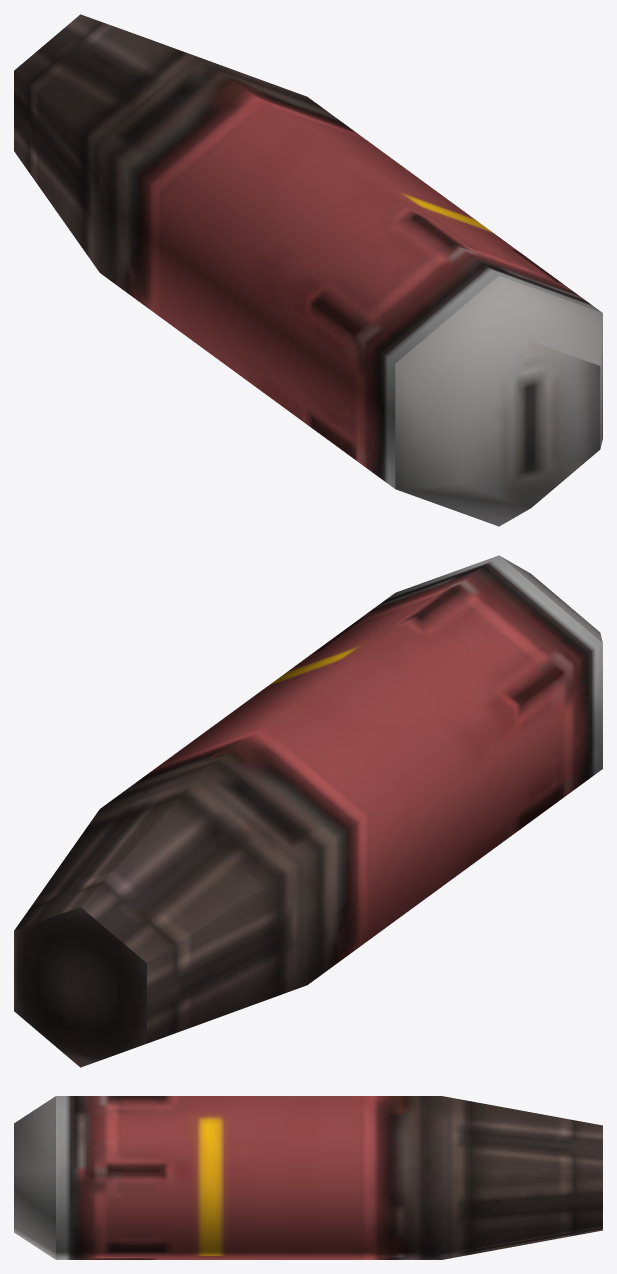
File: Hgn_Missile_Fusion_02.glb
3 views of the same model, one above another, from view 1: azimuth 30°, elevation 25°; view 2: azimuth 150°, elevation 25°; view 3: azimuth 270°, elevation 25° (orthographic). The views are drawn at different scales.
Parts seen in each view (by area): view 1: Group; view 2: Group; view 3: Group.
Part boxes in pixels (x1=…): Group: x1=14, y1=14, x2=602, y2=526; Group: x1=14, y1=555, x2=602, y2=1067; Group: x1=14, y1=1096, x2=602, y2=1259.
Bounding box in the file's own units: 0.0582 × 0.0672 × 0.2189.
Materials: 1 (1 with a texture image).
